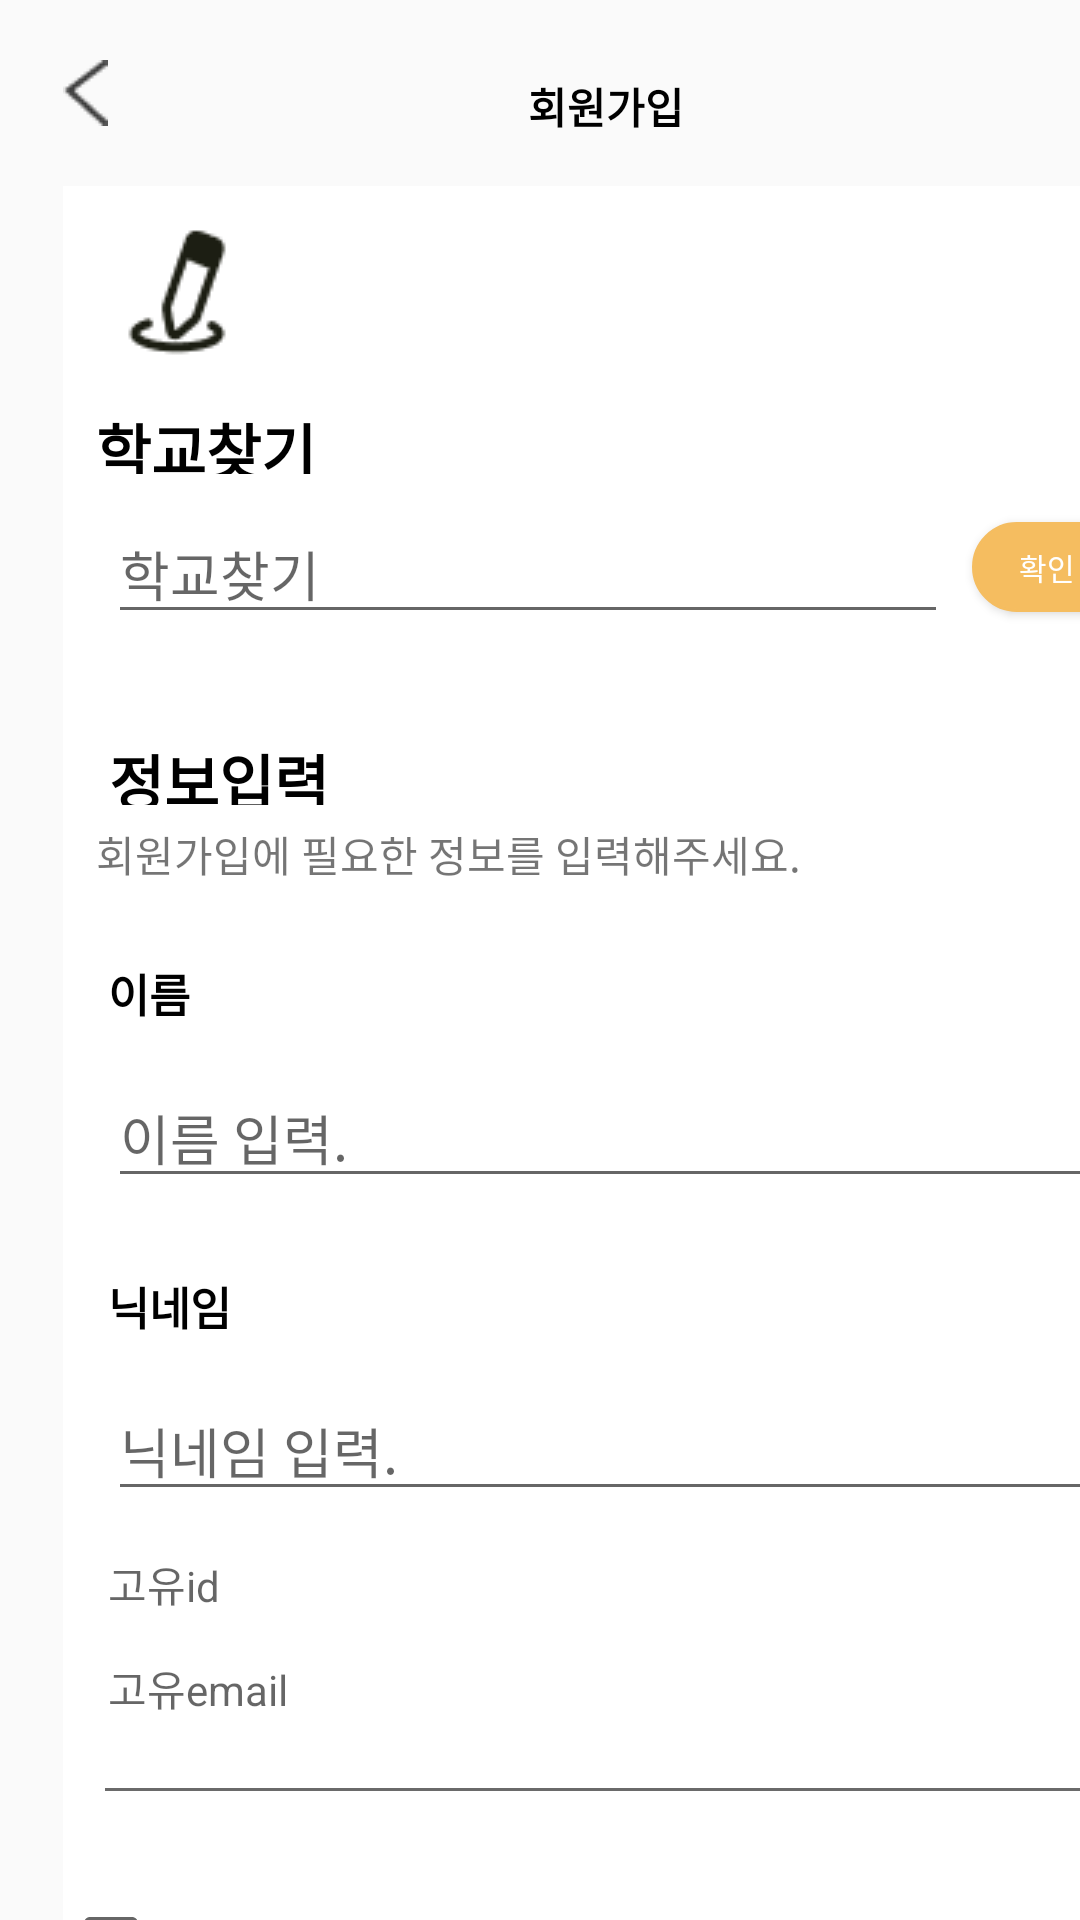

Locate icon controls on the screen. Image size 1080px×1920px, boxes as (x1, y1, x2, y2).
back: (65, 60, 108, 126)
